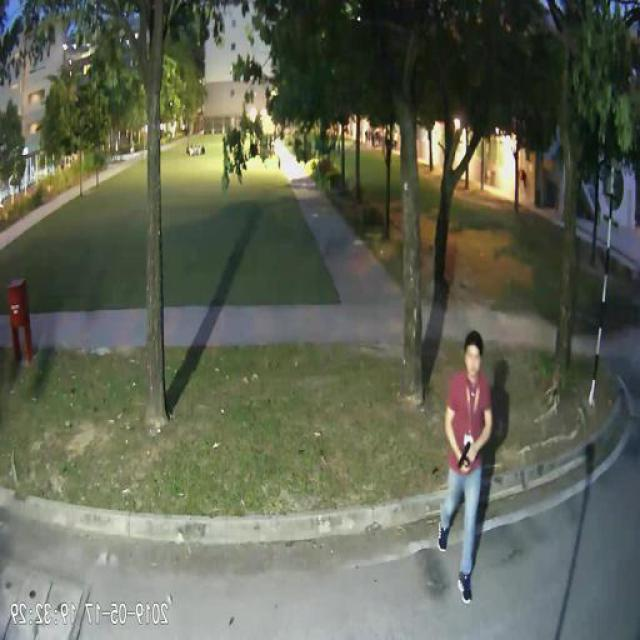Gun: (460, 440, 476, 468)
